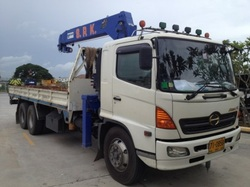truck: (9, 29, 238, 185)
